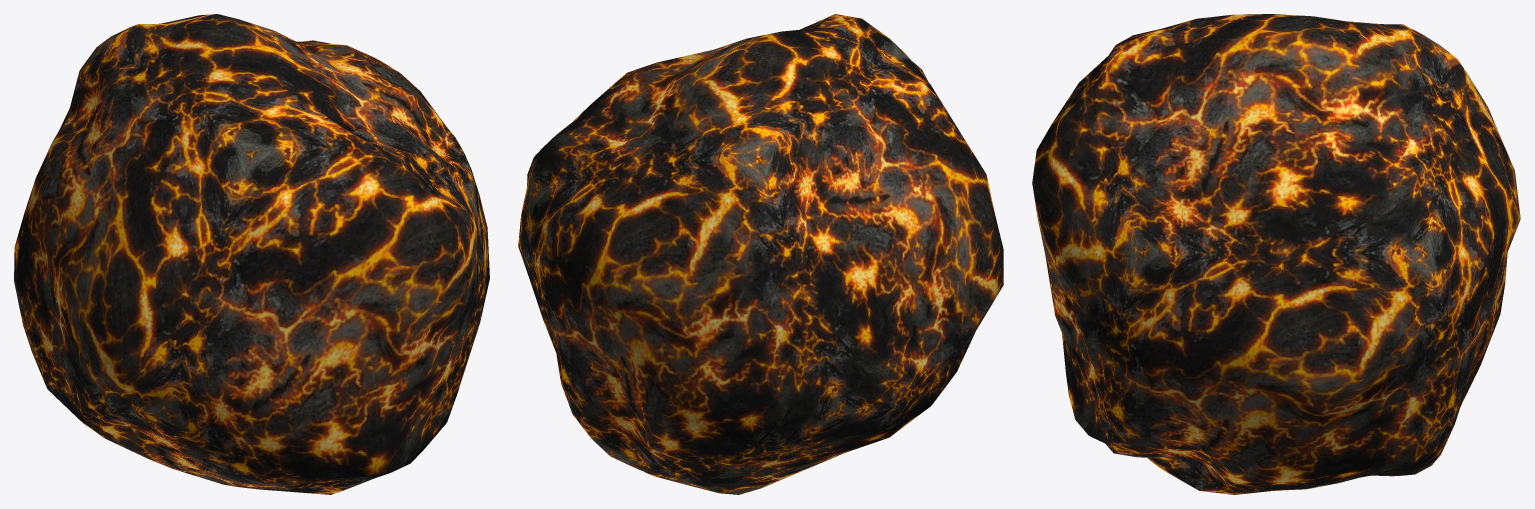
File: planetoid_moltenrock_s01_l2.fbx
The picture shows the model from 3 angles, left to right: view 1: azimuth 30°, elevation 25°; view 2: azimuth 150°, elevation 25°; view 3: azimuth 270°, elevation 25°; orthographic projection. The views are drawn at different scales.
Parts seen in each view (by area): view 1: mesh_node; view 2: mesh_node; view 3: mesh_node.
Boxes of the visible parts, left/top/right/bottom form: mesh_node: left=14, top=14, right=489, bottom=494; mesh_node: left=518, top=14, right=1003, bottom=494; mesh_node: left=1032, top=14, right=1520, bottom=494.
Bounding box in the file's own units: 463 × 479 × 473.
